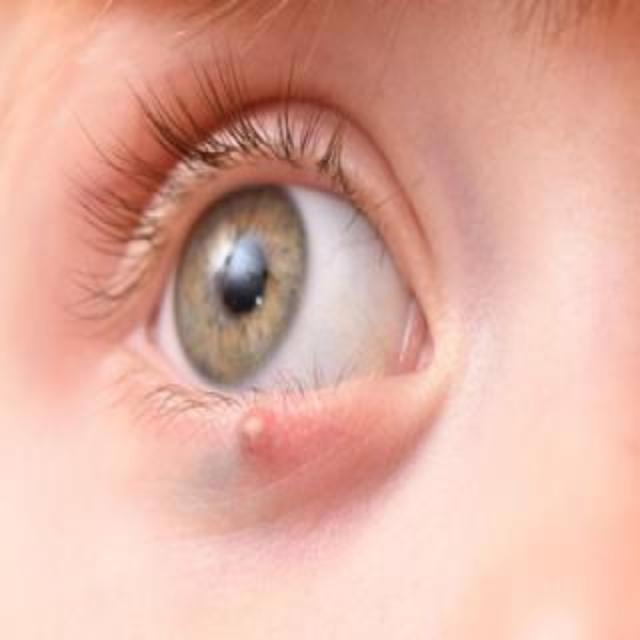Stye: (178, 354, 342, 492)
